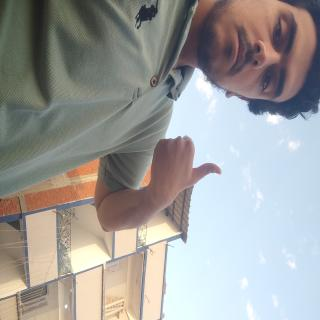ALIF: (97, 125, 156, 234)
